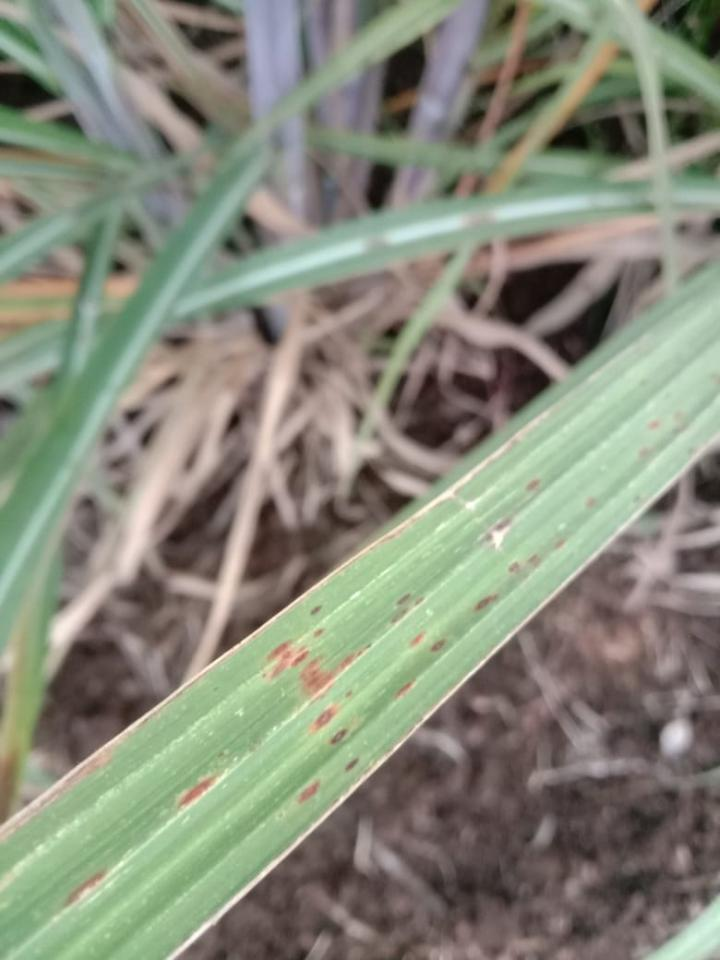Rust: (251, 597, 379, 808), (635, 405, 694, 462), (501, 537, 572, 583), (62, 863, 111, 914), (171, 773, 221, 813), (390, 590, 426, 627), (478, 513, 513, 550), (470, 589, 501, 617), (392, 676, 420, 701), (520, 472, 547, 496), (405, 628, 429, 653), (427, 636, 447, 656), (581, 494, 600, 512)
